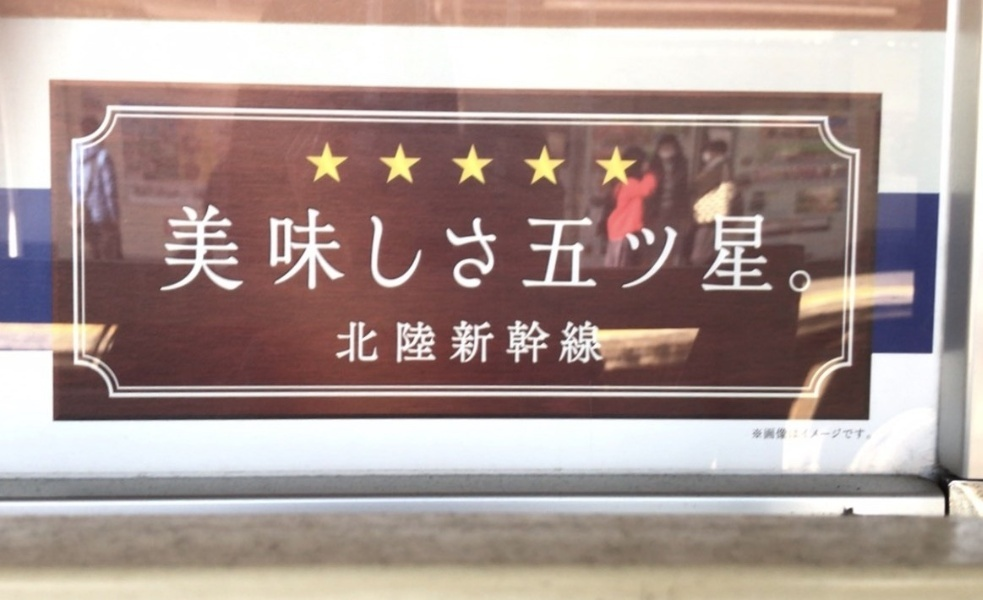text: (177, 200, 192, 298), (193, 200, 208, 298), (209, 200, 224, 298), (225, 200, 240, 298), (241, 200, 256, 298), (257, 200, 272, 298), (273, 200, 288, 298), (289, 200, 304, 298), (305, 200, 320, 298), (321, 200, 336, 298), (337, 200, 352, 298), (353, 200, 368, 298), (369, 200, 384, 298), (385, 200, 400, 298), (401, 200, 416, 298), (417, 200, 432, 298), (433, 200, 448, 298), (449, 200, 464, 298), (465, 200, 480, 298), (481, 200, 496, 298), (497, 200, 512, 298), (513, 200, 528, 298), (529, 200, 544, 298), (545, 200, 560, 298), (561, 200, 576, 298), (577, 200, 592, 298), (593, 200, 608, 298), (609, 200, 624, 298), (625, 200, 640, 298), (641, 200, 656, 298), (657, 200, 672, 298), (673, 200, 688, 298), (689, 200, 704, 298), (705, 200, 720, 298), (721, 200, 736, 298), (737, 200, 752, 298), (753, 200, 768, 298), (769, 200, 784, 298), (785, 200, 800, 298), (801, 200, 816, 298), (817, 200, 827, 298), (337, 319, 352, 368), (353, 319, 368, 368), (369, 319, 384, 368), (385, 319, 400, 368), (401, 319, 416, 368), (417, 319, 432, 368), (433, 319, 448, 368), (449, 319, 464, 368), (465, 319, 480, 368), (481, 319, 496, 368), (497, 319, 512, 368), (513, 319, 528, 368), (529, 319, 544, 368), (545, 319, 560, 368), (561, 319, 576, 368), (577, 319, 592, 368), (593, 319, 608, 368), (170, 200, 176, 298), (753, 428, 768, 442), (769, 428, 784, 442), (785, 428, 800, 442), (801, 428, 816, 442), (817, 428, 832, 442), (833, 428, 848, 442), (849, 428, 864, 442), (865, 428, 872, 442)
